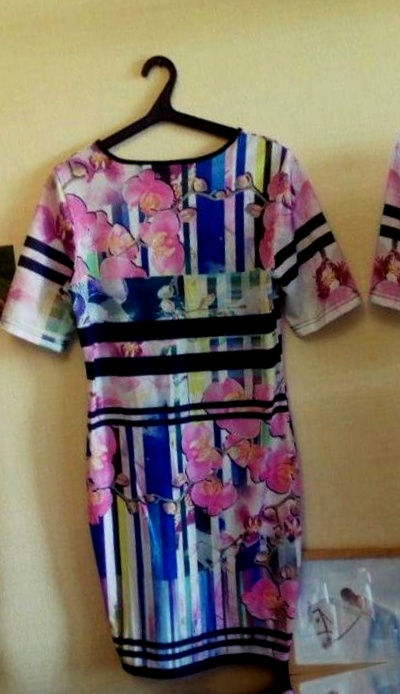Dress: (0, 68, 400, 692), (335, 20, 400, 644), (0, 118, 30, 694), (53, 675, 400, 694)
